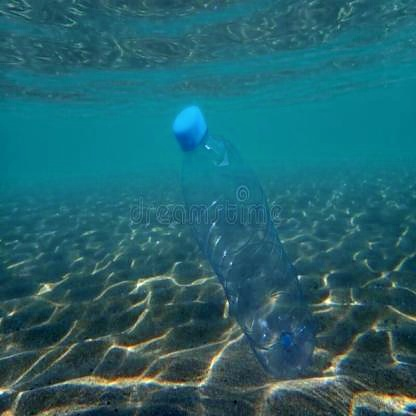pbottle: (158, 102, 322, 383)
